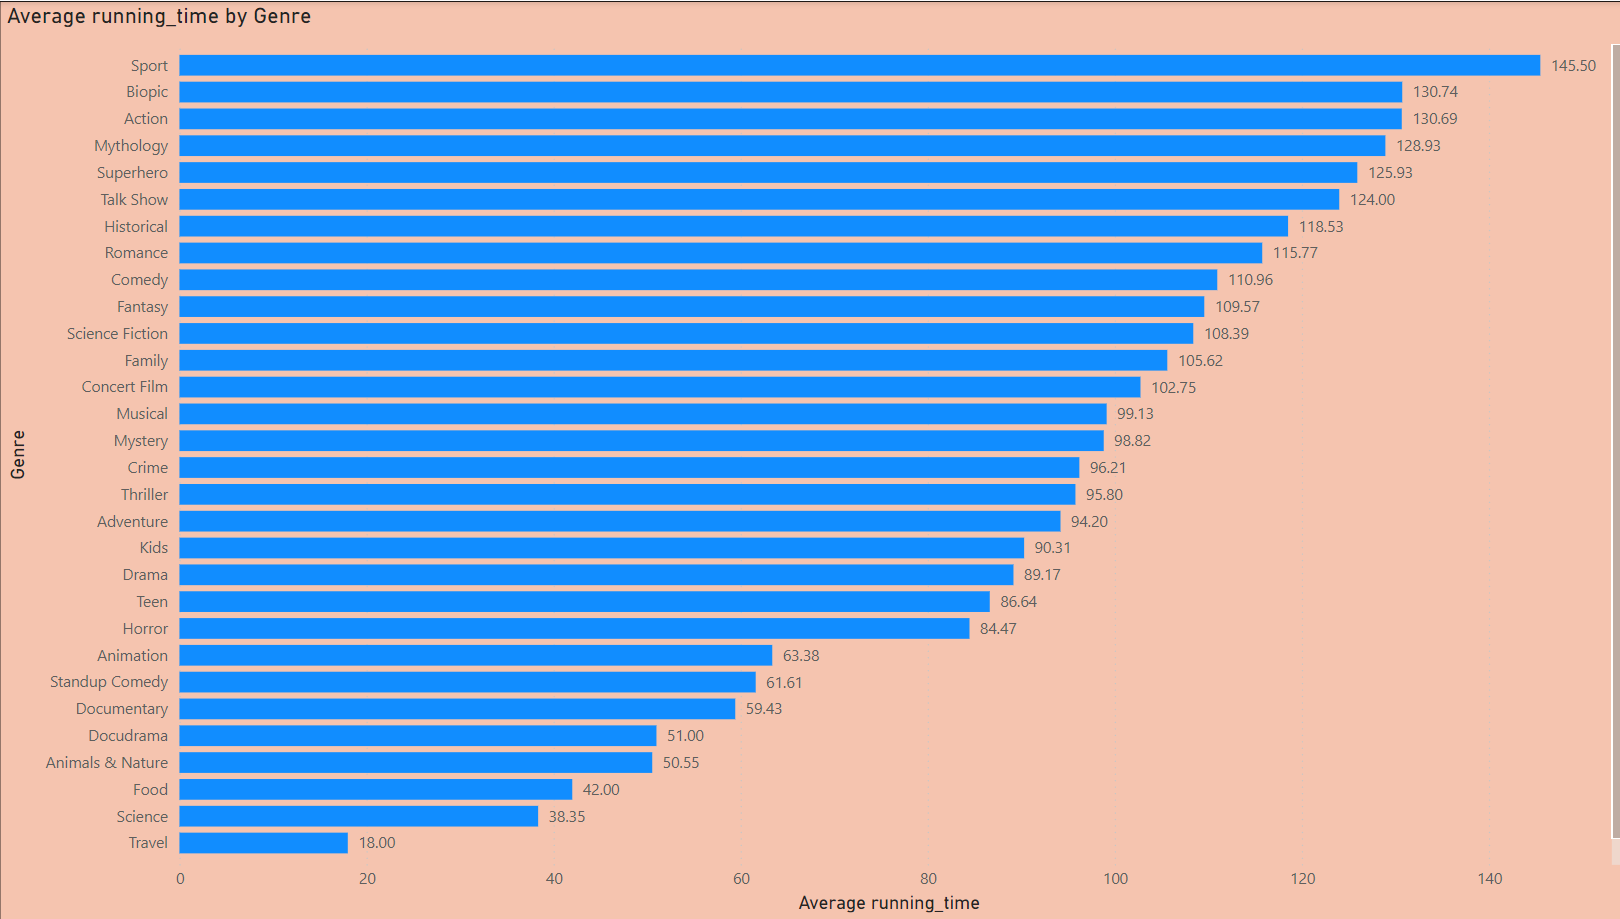

The dashboard page shown, as its layout file describes it:
{"tool":"powerbi","page":{"name":"Average Running Time by Genre","canvas":[1280,720],"ordinal":1},"visuals":[{"type":"barChart","fields":{"Category":["hotstar csv.genre"],"Y":["Avg(hotstar csv.running_time)"]},"box":[10.4,0,1259.5,710.3],"z":0}]}

Visuals, with their boxes in screenshot pixels (x1, y1, x2, y2), scaled from the page's 1280x720 canvas onto the 1620x919 screenshot:
barChart - hotstar csv.genre x Avg(hotstar csv.running_time): region(13, 0, 1607, 907)
